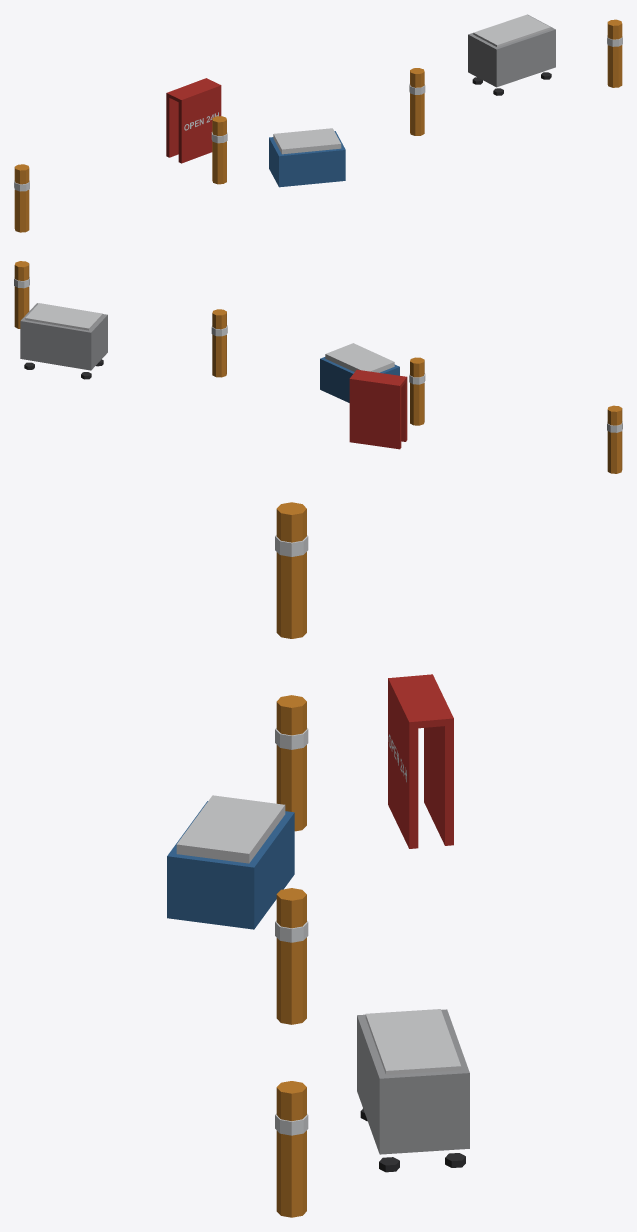
File: laverie_props.glb
3 views of the same model, one above another, from view 1: azimuth 30°, elevation 25°; view 2: azimuth 150°, elevation 25°; view 3: azimuth 270°, elevation 25° (orthographic). The views are drawn at different scales.
Parts seen in each view (by area): view 1: laverie_props; view 2: laverie_props; view 3: laverie_props.
Boxes of the visible parts, x1,y1,x2,y2 form: laverie_props: (14,14,622,232); laverie_props: (14,261,622,473); laverie_props: (167,502,469,1217).
Size of the model in its own units: 9.22 by 0.97 by 1.99.
